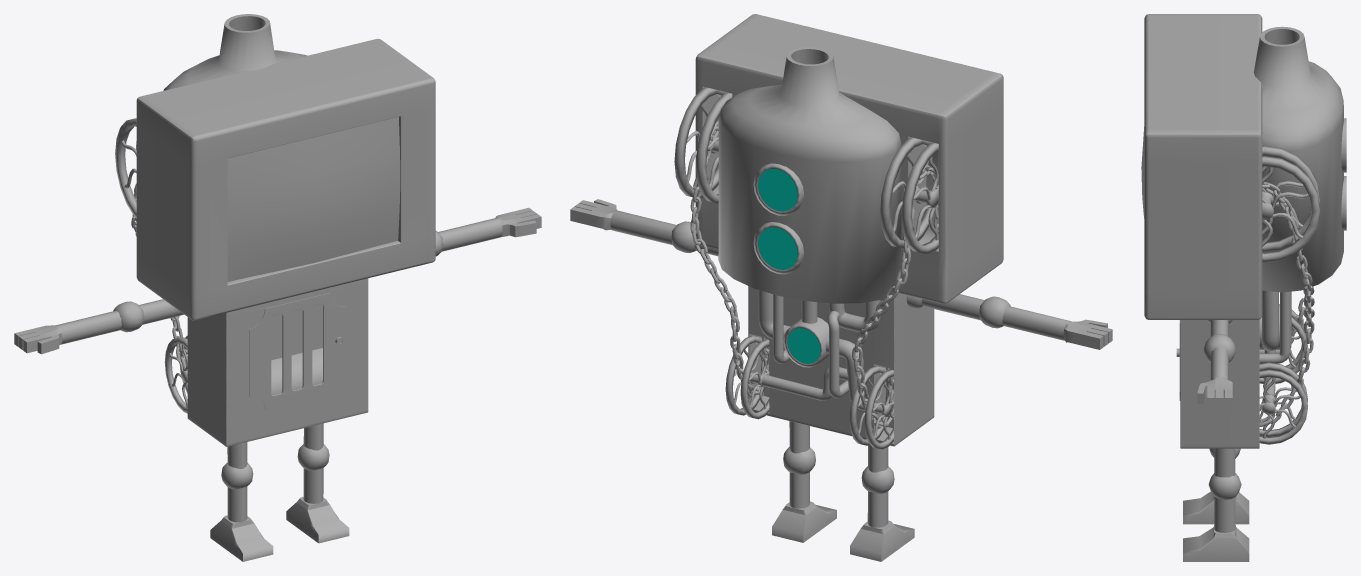
File: chara_low_poly_uv_reworked.fbx
The picture shows the model from 3 angles, left to right: view 1: azimuth 30°, elevation 25°; view 2: azimuth 150°, elevation 25°; view 3: azimuth 270°, elevation 25°; orthographic projection. The views are drawn at different scales.
Visible parts, largest first — view 1: head_low, torse_low, membres_low, porte_fourneau_low, mecanisme_low, poulie; view 2: mecanisme_low, head_low, membres_low, torse_low, poulie, glass_low; view 3: head_low, mecanisme_low, torse_low, membres_low, poulie.
Boxes of the visible parts, left/top/right/bottom form: head_low: left=131, top=38, right=435, bottom=389; torse_low: left=187, top=278, right=368, bottom=446; membres_low: left=14, top=207, right=541, bottom=561; porte_fourneau_low: left=249, top=293, right=345, bottom=409; mecanisme_low: left=163, top=14, right=307, bottom=90; poulie: left=115, top=118, right=187, bottom=413; mecanisme_low: left=718, top=47, right=901, bottom=410; head_low: left=690, top=14, right=1003, bottom=428; membres_low: left=570, top=199, right=1112, bottom=561; torse_low: left=748, top=286, right=934, bottom=446; poulie: left=674, top=87, right=938, bottom=449; glass_low: left=757, top=169, right=820, bottom=363; head_low: left=1141, top=14, right=1314, bottom=426; mecanisme_low: left=1254, top=26, right=1346, bottom=395; torse_low: left=1180, top=319, right=1259, bottom=448; membres_low: left=1183, top=320, right=1249, bottom=561; poulie: left=1259, top=145, right=1319, bottom=444.
Bounding box in the file's own units: 82.58 × 75.13 × 28.
